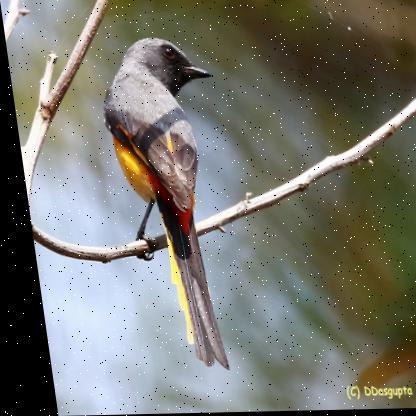Burung: (91, 35, 240, 372)
